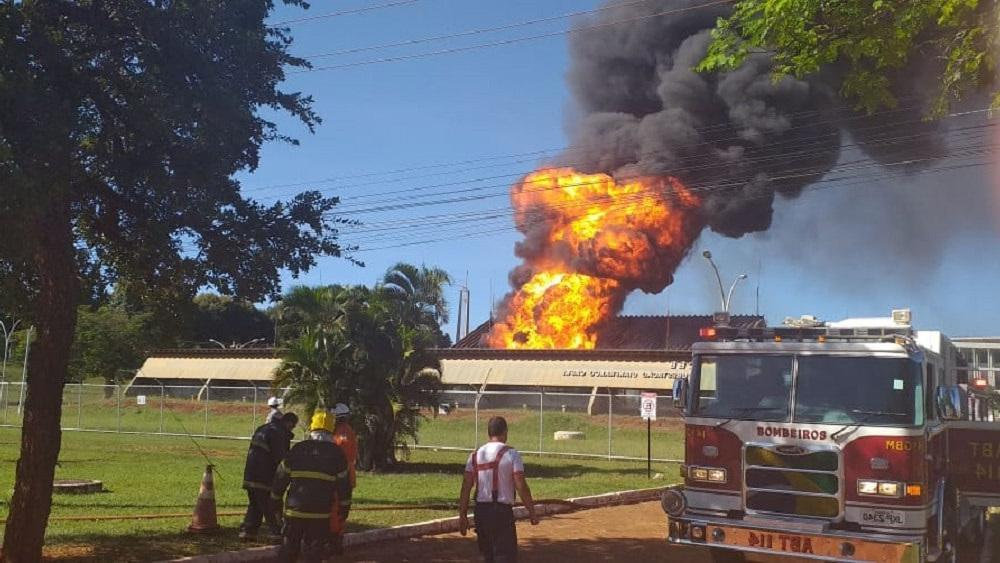Fire: (485, 153, 698, 354)
